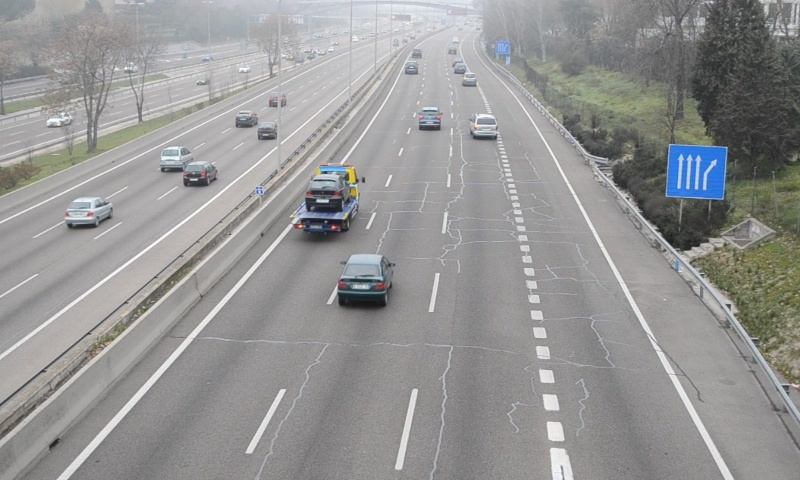car: (337, 254, 392, 299), (470, 113, 499, 140), (418, 106, 442, 130), (404, 60, 419, 76), (462, 70, 477, 86)
small-truck: (289, 162, 358, 234)
